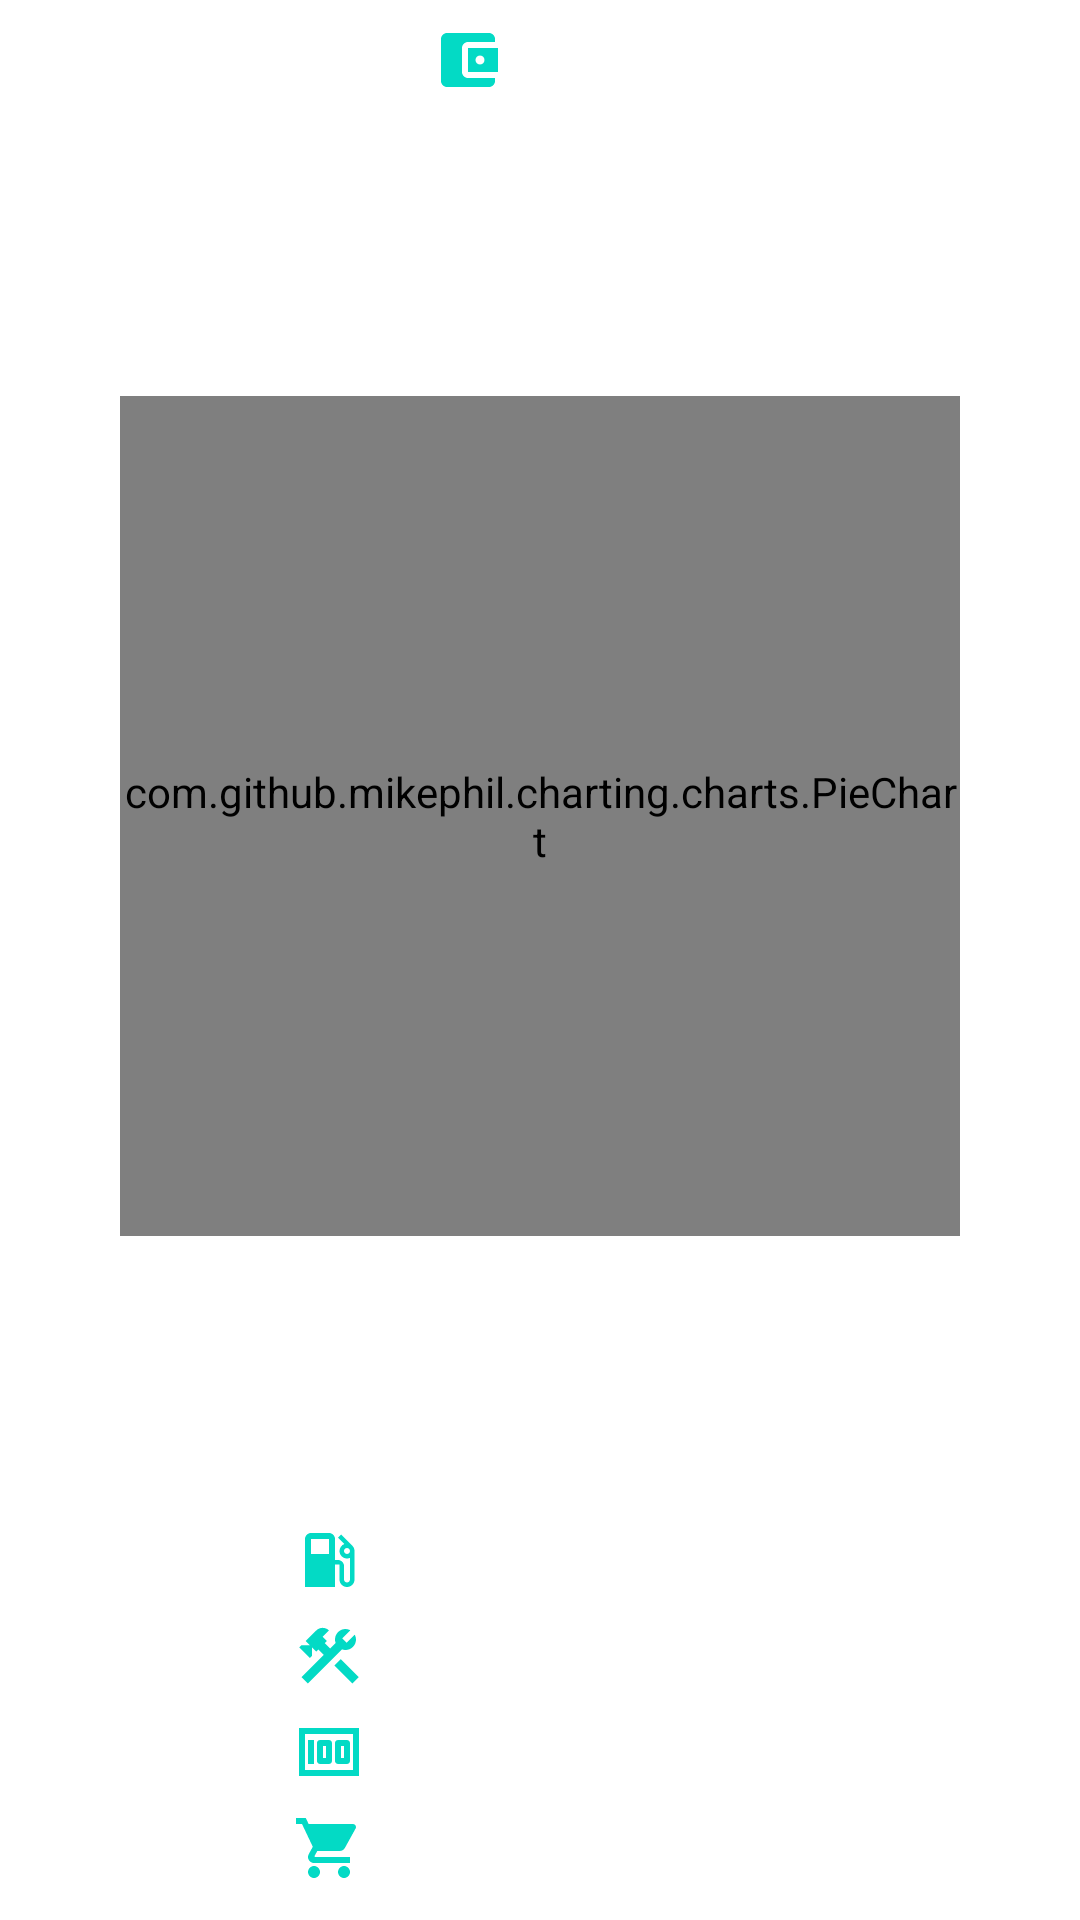

Where to tap for icons on this 1080 x 1920 app screen, as (x,y):
account balance wallet: (469,60)
construction: (329,1655)
local gas station: (330,1560)
money: (329,1752)
shopping cart: (326,1848)
